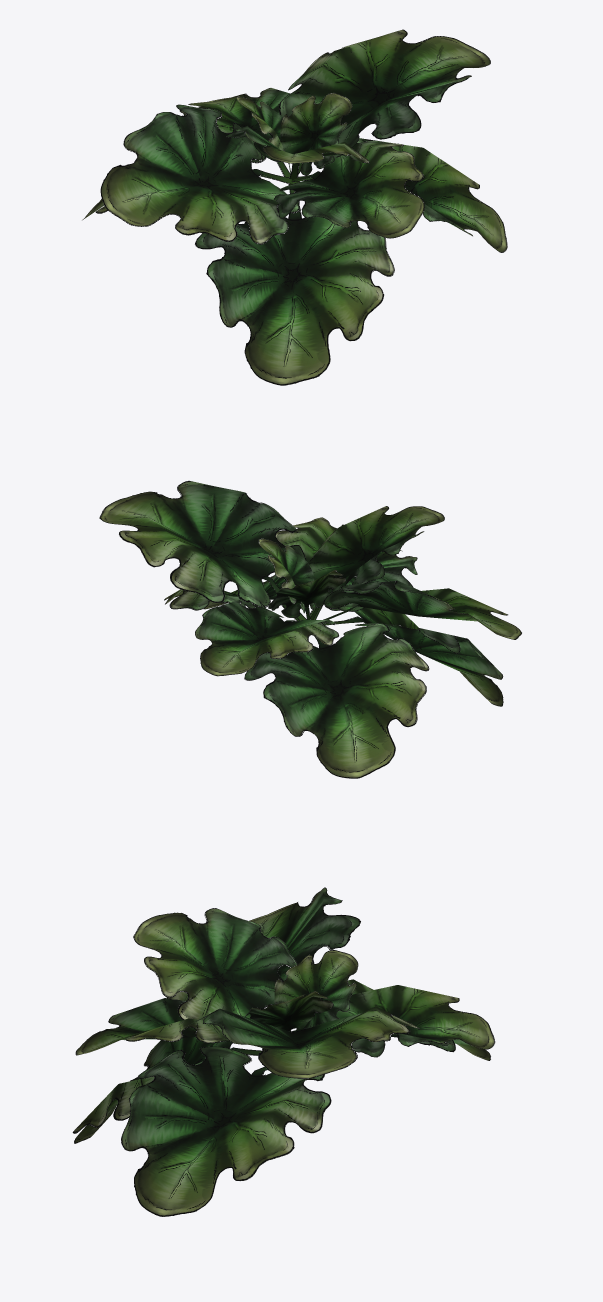
File: fan_leaf.FBX
The picture shows the model from 3 angles, top to bottom: view 1: azimuth 30°, elevation 25°; view 2: azimuth 150°, elevation 25°; view 3: azimuth 270°, elevation 25°; orthographic projection. The views are drawn at different scales.
Visible parts, largest first — view 1: Plane016; view 2: Plane016; view 3: Plane016.
Part boxes in pixels (x1,y1,x2,y2): Plane016: [82, 29, 507, 385]; Plane016: [99, 480, 521, 778]; Plane016: [72, 887, 495, 1216].
Size of the model in its own units: 103 by 54.46 by 95.91.
